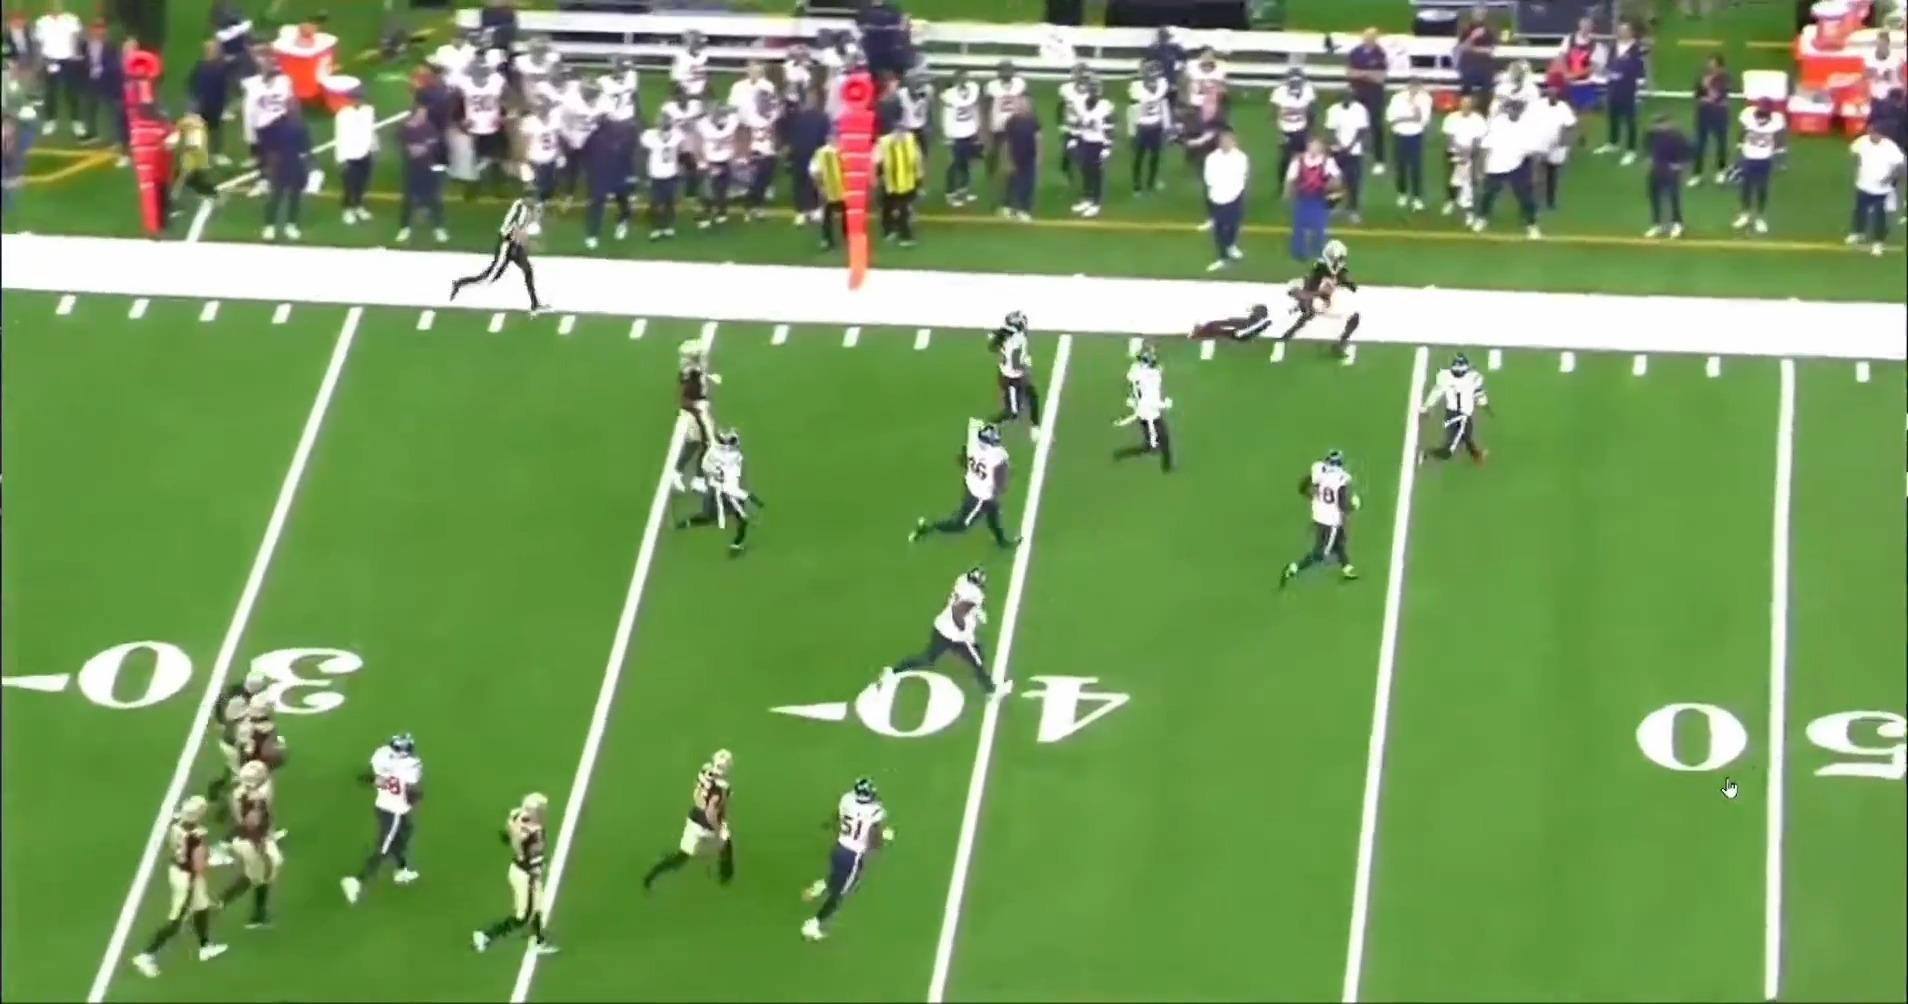player: (129, 790, 238, 982), (647, 746, 758, 905), (473, 787, 569, 969), (800, 780, 894, 954), (1263, 239, 1387, 362), (350, 730, 430, 905), (225, 751, 299, 940), (919, 420, 1022, 553), (915, 564, 1008, 704), (670, 427, 767, 560), (1272, 446, 1360, 589), (977, 310, 1060, 435), (670, 330, 733, 481), (1116, 347, 1185, 482), (1417, 353, 1492, 476), (206, 661, 273, 745), (1176, 297, 1288, 339), (233, 691, 294, 760)
ref: (444, 179, 555, 312)
